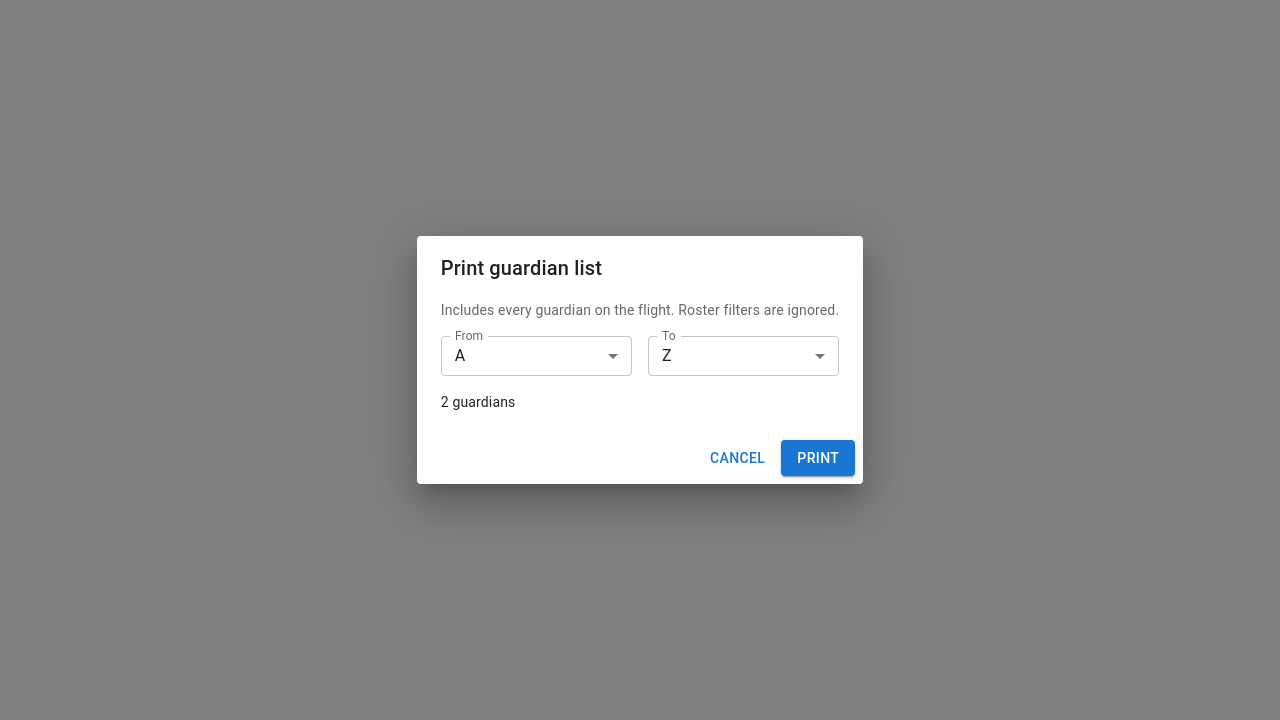
Test: GuardianListPrintDialog › updates the count when the letter range changes
Click the dropdown named "To" at (667, 356), box x1=662 y1=346 x2=672 y2=365
(page scrolled)
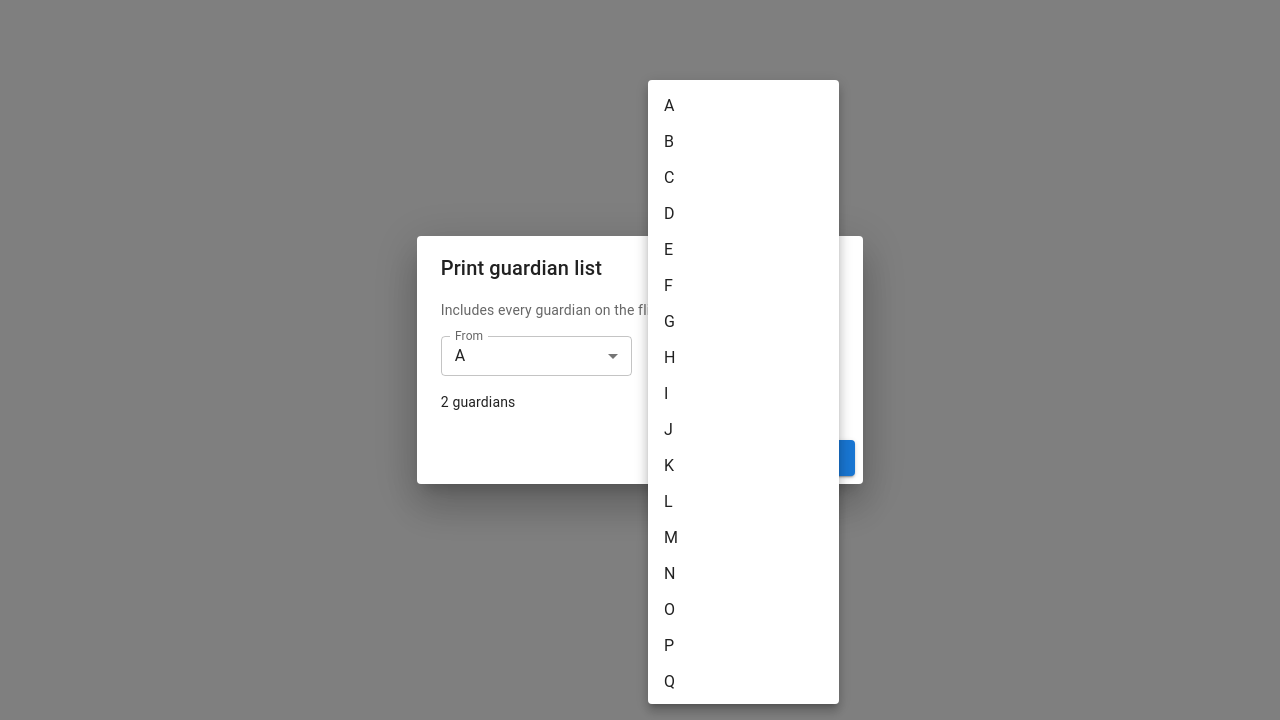
Click the option "A" at (669, 106), box x1=664 y1=96 x2=675 y2=115
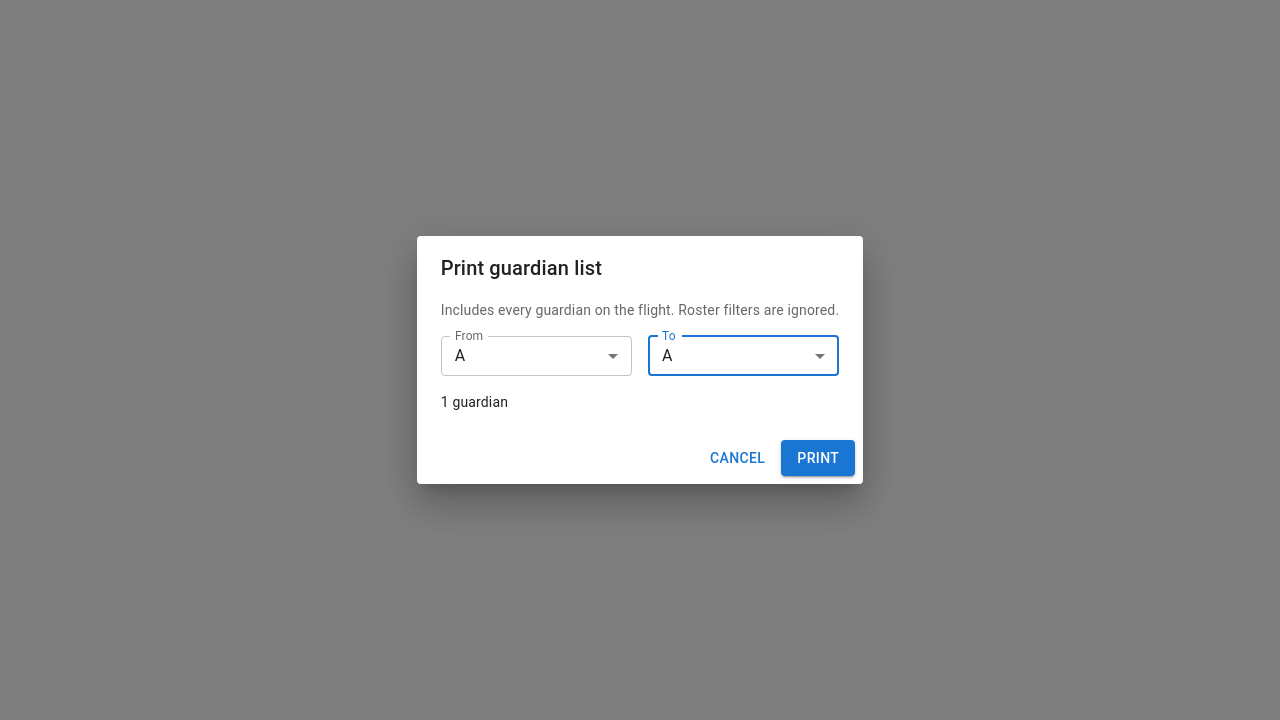
Result: the text "1 guardian" is shown at x1=441 y1=394 x2=508 y2=410
